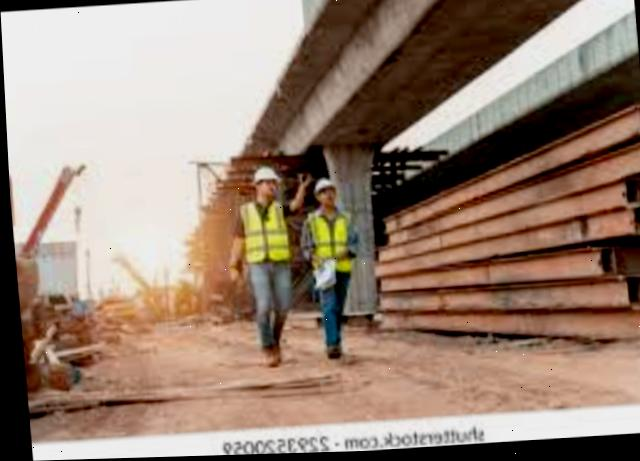helmet: (304, 171, 335, 195), (243, 166, 278, 186)
vest: (299, 203, 363, 280), (229, 203, 286, 273)
